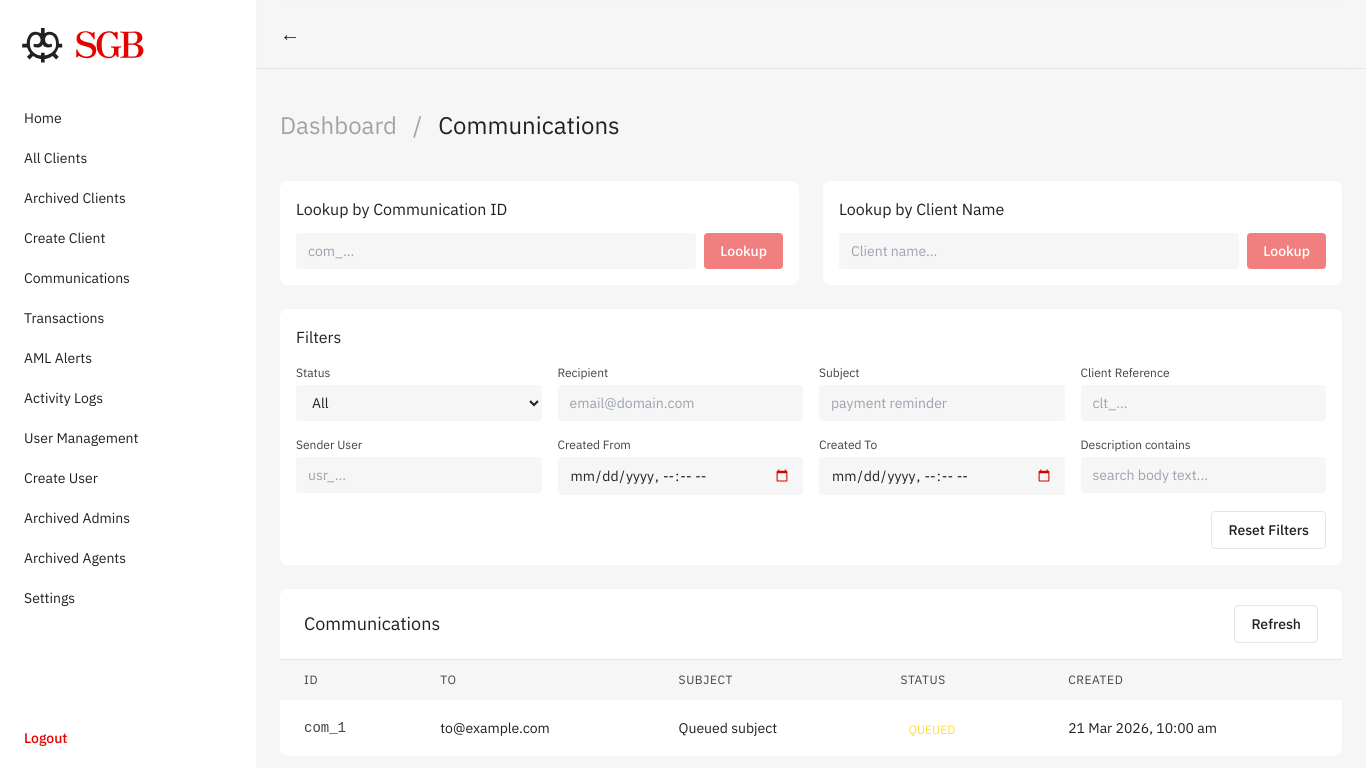
Test: AdminCommunications behavior › looks up by client name and handles API errors
Expected: the heading "Lookup by Client Name" is shown, [839,199,1004,219]
Type " John " into the field with placeholder "Client name...".
click(1039, 251); type(" John ")  # box [839,233,1239,269]
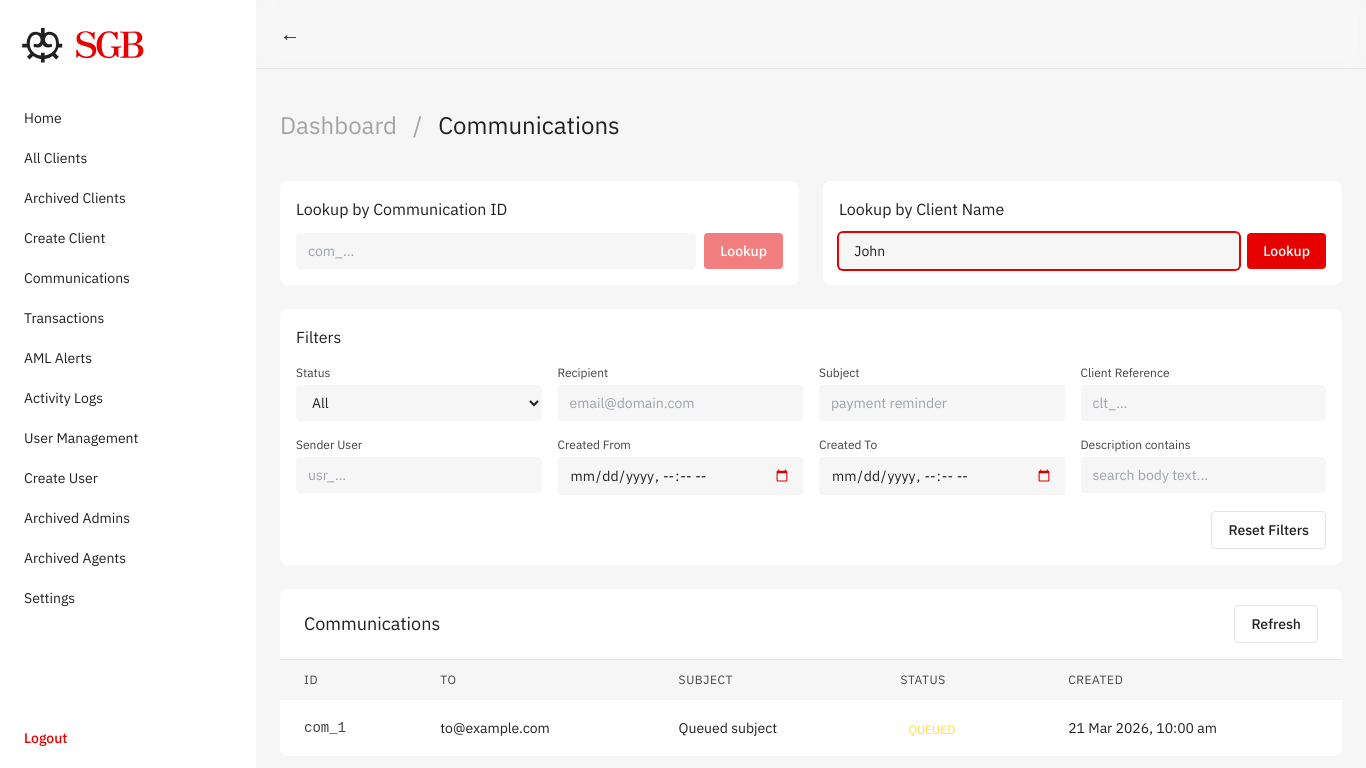
Click the button "Lookup" below "Lookup by Client Name".
click(1287, 251)  # box [1247,233,1326,269]
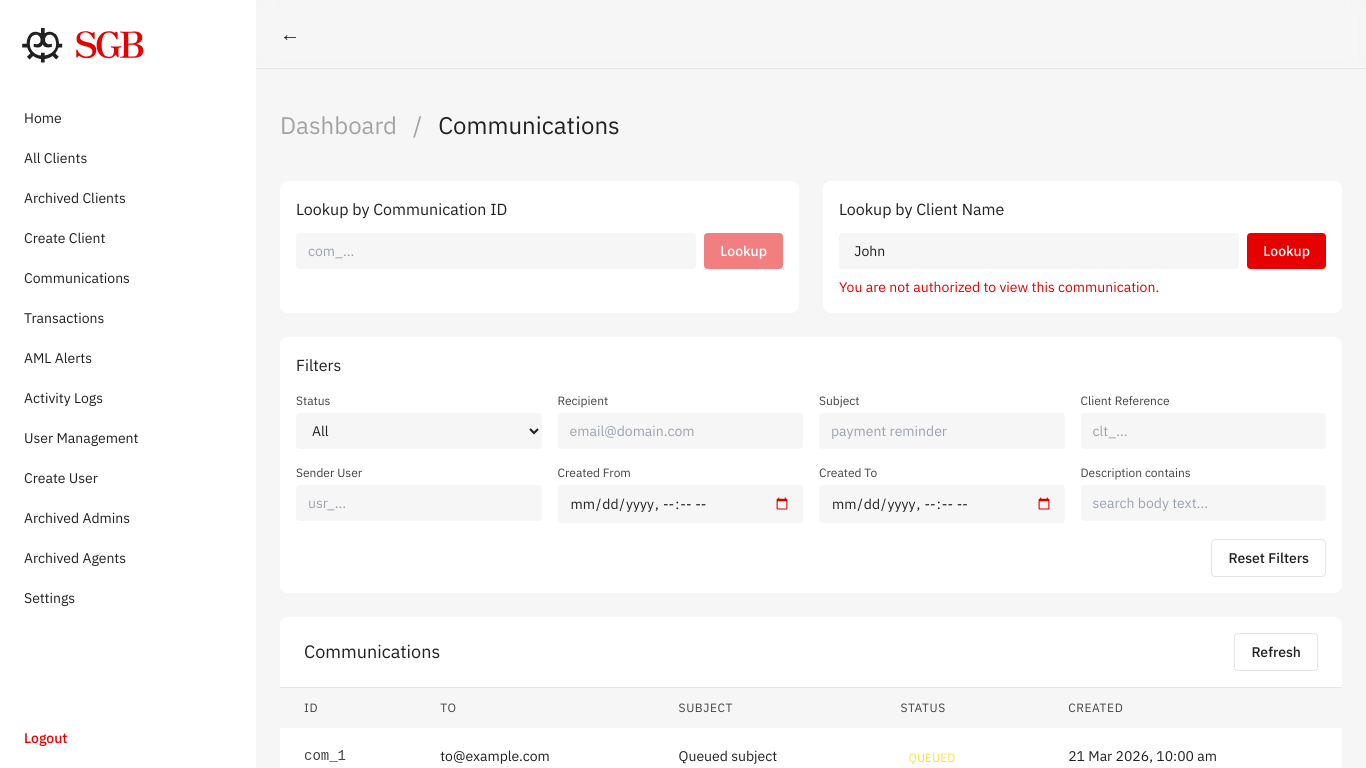
Expected: the text "You are not authorized to view this communication." is shown, [839,278,1159,296]
